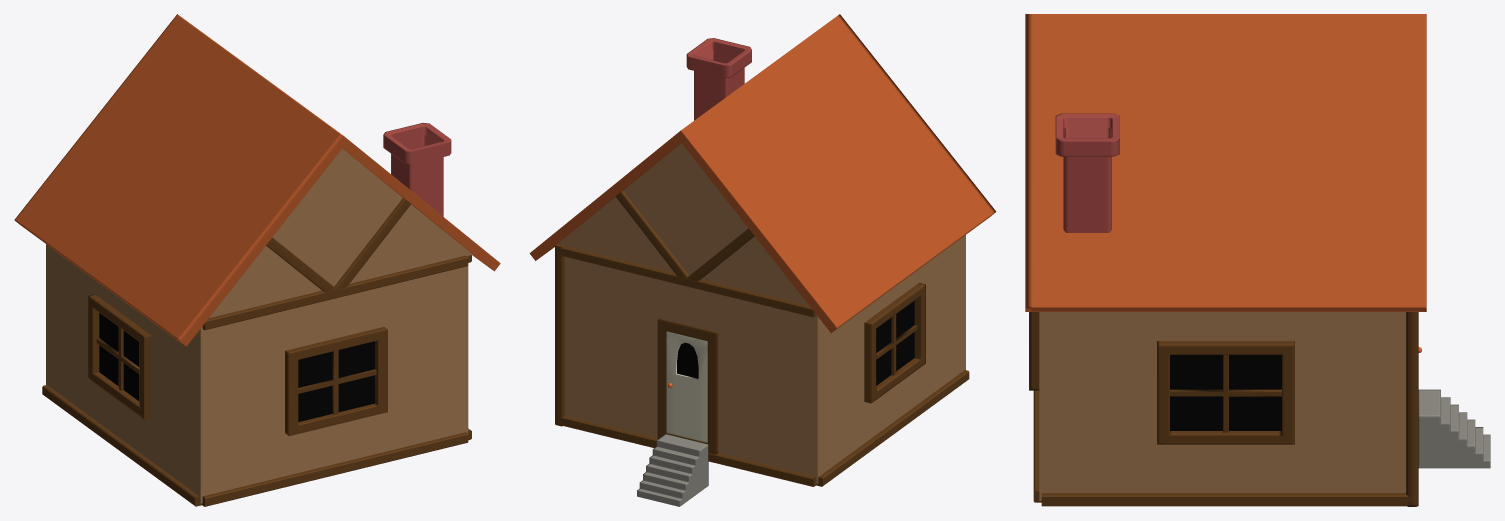
Rendered from Cabin.fbx.
3 views of the same model, side by side, from view 1: azimuth 30°, elevation 25°; view 2: azimuth 150°, elevation 25°; view 3: azimuth 270°, elevation 25° (orthographic). The views are drawn at different scales.
Visible parts, largest first — view 1: Cube.004; view 2: Cube.004; view 3: Cube.004.
Part boxes in pixels (x1,y1,x2,y2): Cube.004: [14, 14, 500, 506]; Cube.004: [529, 14, 996, 506]; Cube.004: [1025, 14, 1490, 506].
Bounding box in the file's own units: 719 × 785 × 748.
